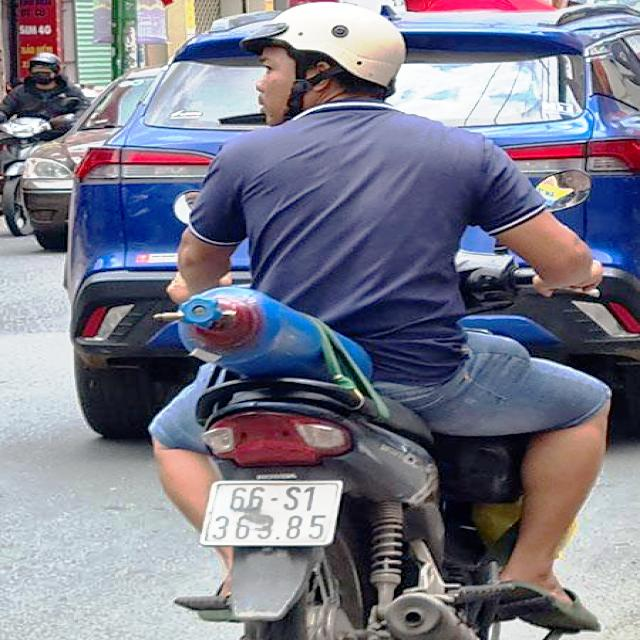license_plate: (202, 482, 347, 548)
